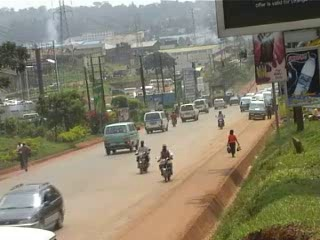Car: (1, 178, 67, 235), (210, 96, 228, 109), (227, 94, 241, 107)
Motorcycle: (132, 139, 153, 175), (156, 144, 174, 182), (214, 108, 225, 130), (166, 111, 180, 128)
